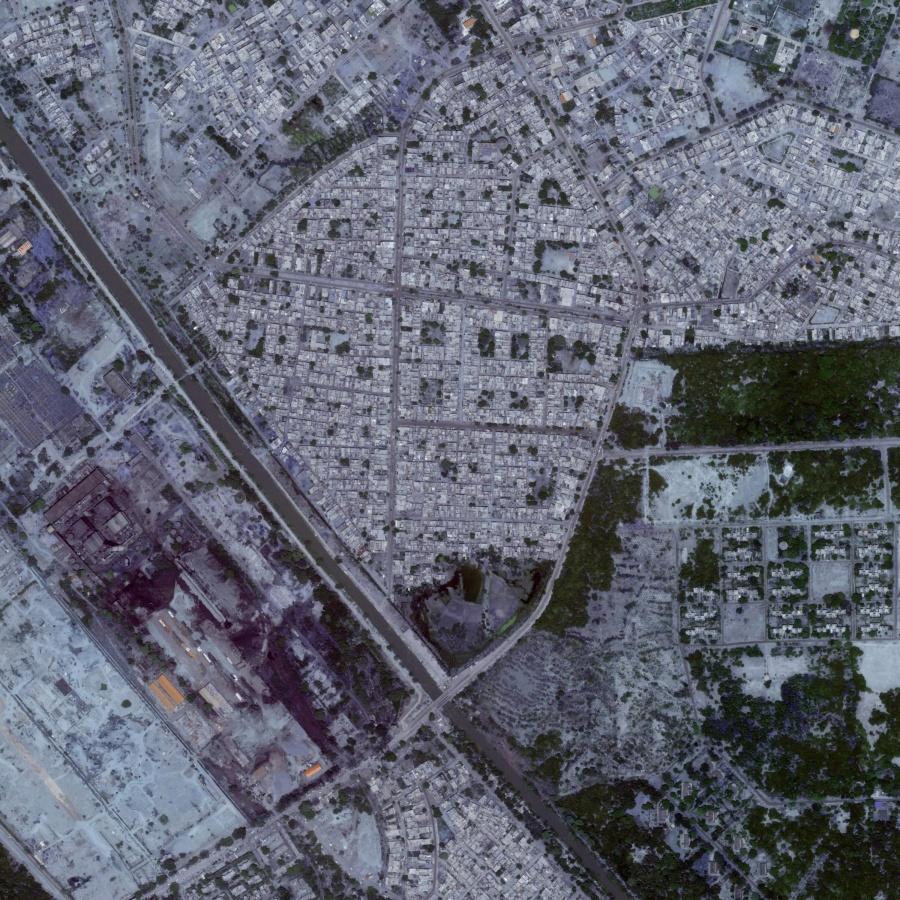PowerPlant: (44, 461, 343, 784)
